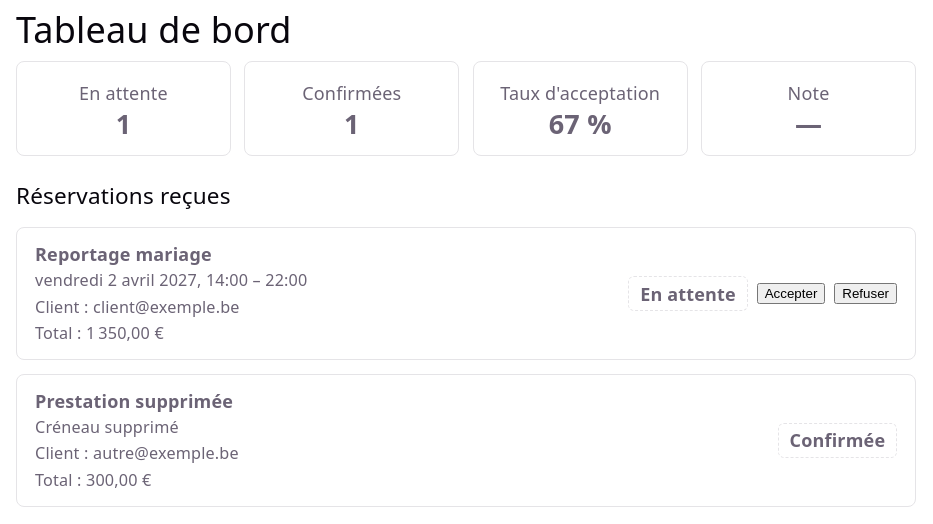
Test case: TableauDeBord (#32, wireframe 08) › accepte une demande puis recharge la liste
Click the button "Accepter" at x=791, y=294, box [757, 283, 825, 304]
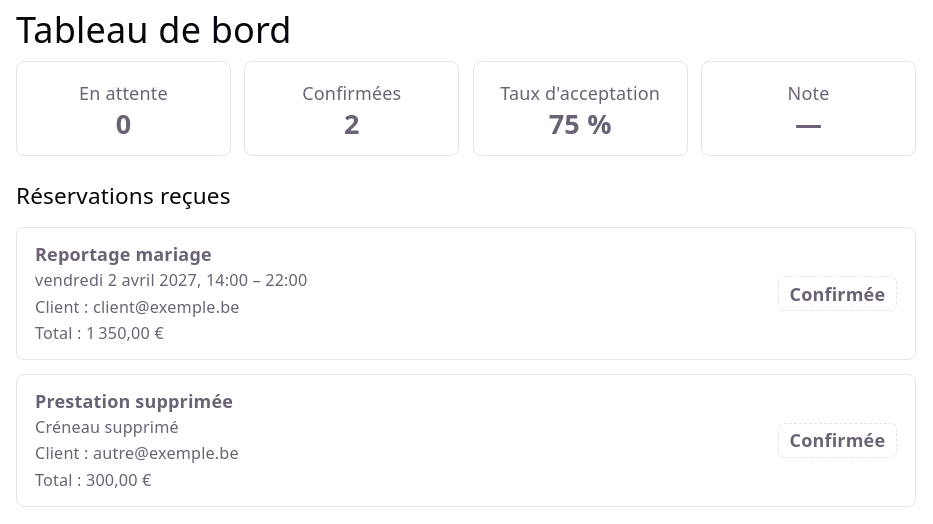
Expected: the button "Accepter" is gone
Expected: the list item "Reportage mariage" shows "Confirmée", [790, 282, 885, 306]
